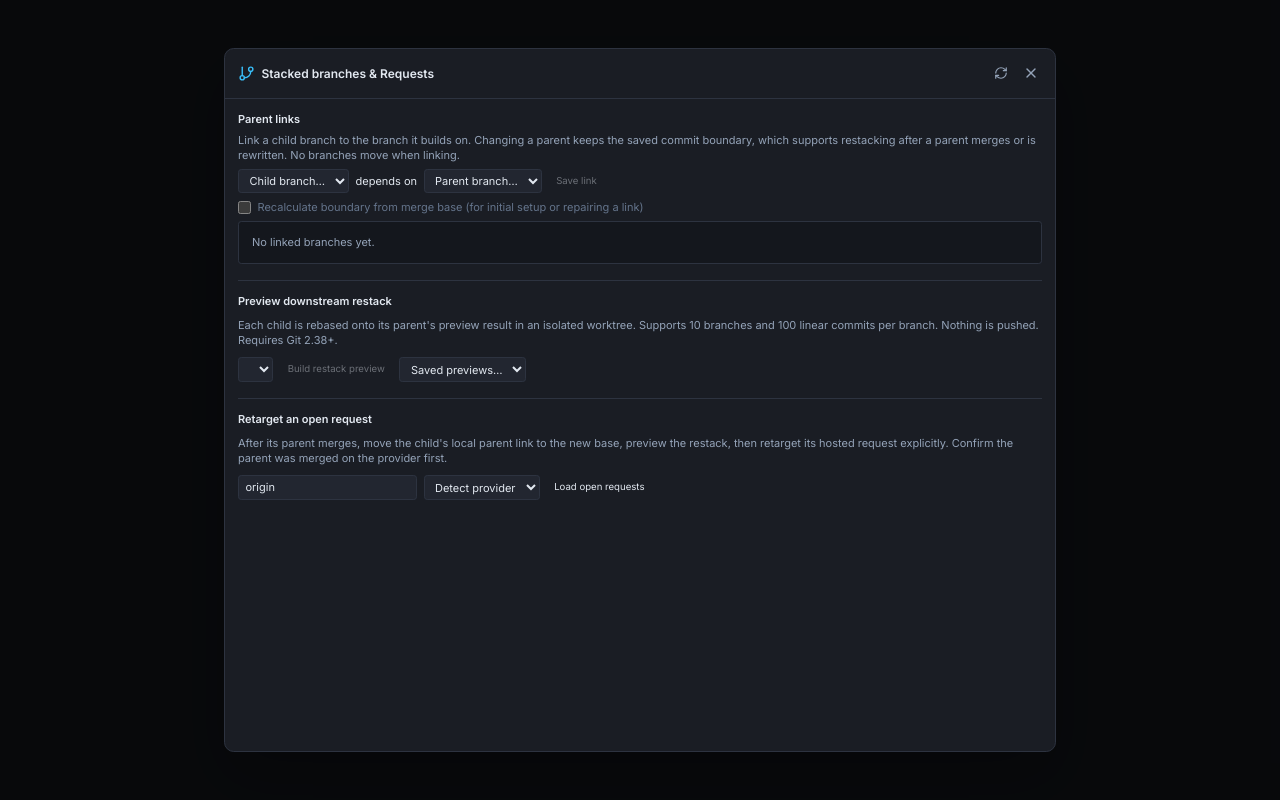
Scenario: chooses an available stack root after refreshing an initially empty repository: unlinked
Check: the text "No linked branches yet." is shown, box [252,235,375,249]
What coordinates should you click on to do the following:
click the button titled "Refresh stack"
I would click on:
 (1001, 73)
Its box is [990,62,1013,85].
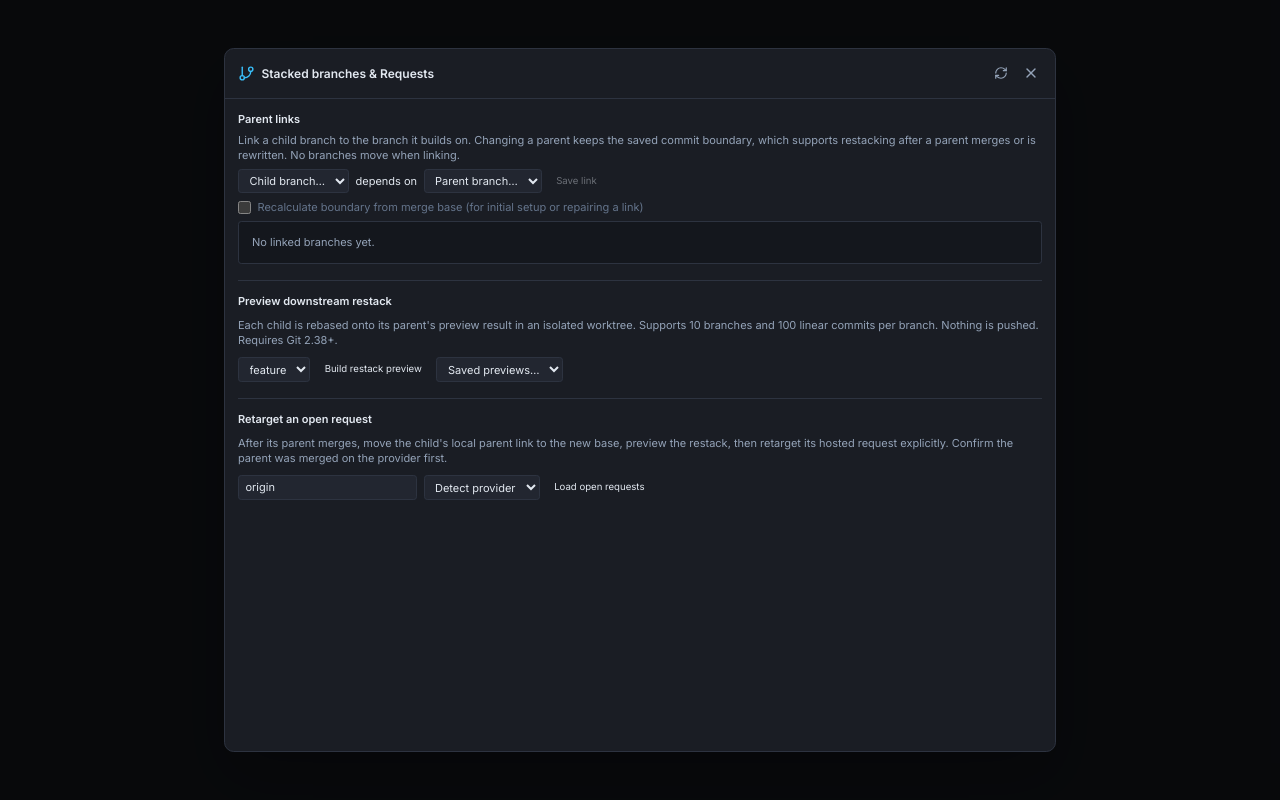
Check: the dropdown named "Stack base branch" shows "feature", box [238,357,310,382]
